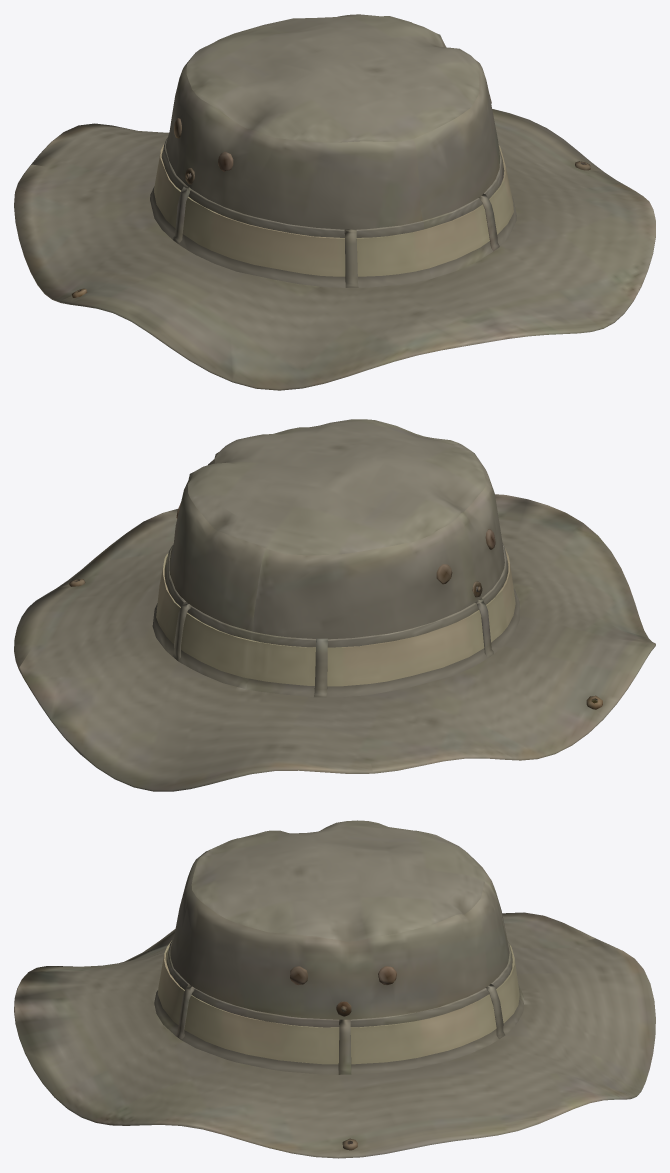
Rendered from ph_fishermans_hat.glb.
3 renders of one model, top to bottom at view 1: azimuth 30°, elevation 25°; view 2: azimuth 150°, elevation 25°; view 3: azimuth 270°, elevation 25°, orthographic. The views are drawn at different scales.
Parts seen in each view (by area): view 1: fishermans_hat; view 2: fishermans_hat; view 3: fishermans_hat.
Part boxes in pixels (x1,y1,x2,y2): fishermans_hat: (14, 14, 655, 390); fishermans_hat: (14, 419, 655, 791); fishermans_hat: (14, 820, 655, 1158).
Bounding box in the file's own units: 0.3236 × 0.1239 × 0.35.
Materials: 1 (1 with a texture image).
